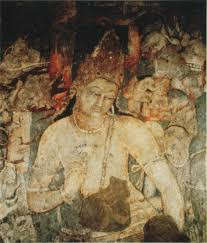Bodhisatva Padampani: (6, 12, 203, 240)
